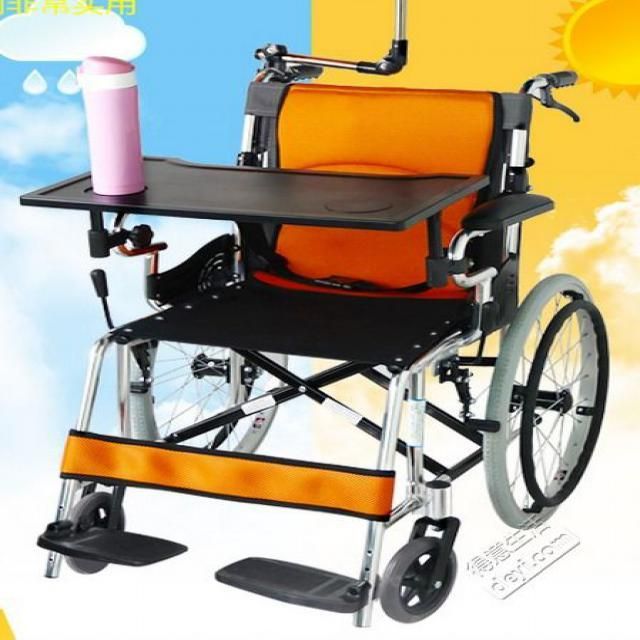wheelchair: (0, 47, 627, 604)
